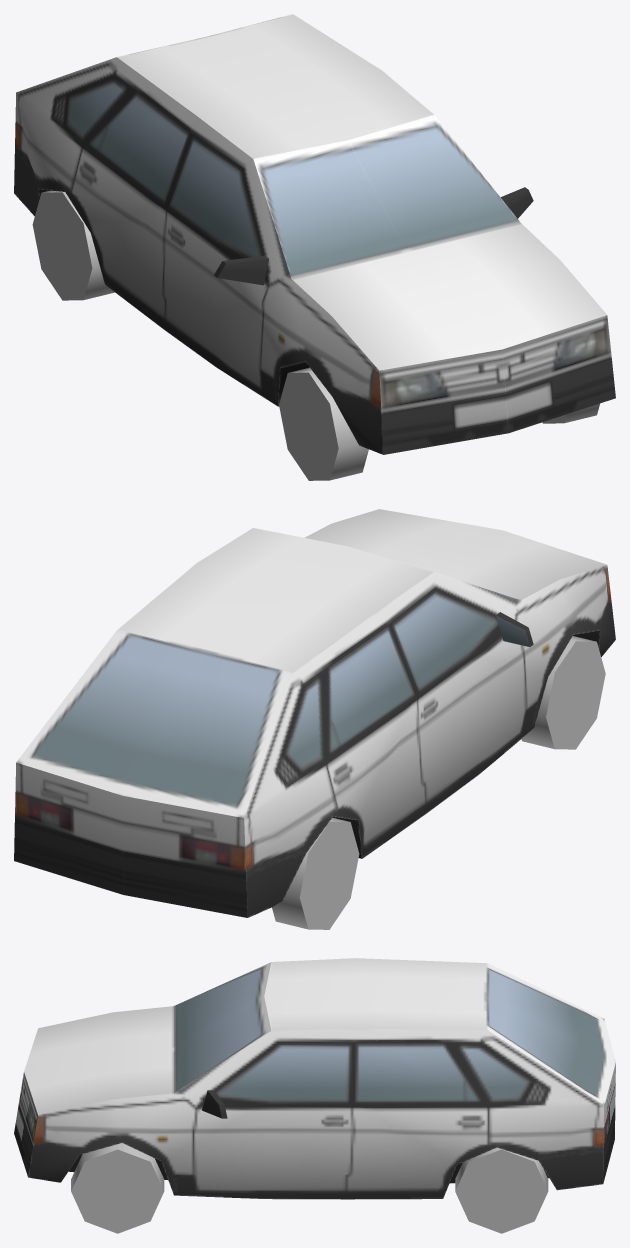
Rendered from Lada 9 V_0_1.fbx.
The picture shows the model from 3 angles, top to bottom: view 1: azimuth 30°, elevation 25°; view 2: azimuth 150°, elevation 25°; view 3: azimuth 270°, elevation 25°; orthographic projection. The views are drawn at different scales.
Visible parts, largest first — view 1: Lada9, Wheel_F_R, Wheel_B_R; view 2: Lada9, Wheel_B_R, Wheel_F_R; view 3: Lada9, Wheel_F_L, Wheel_B_L.
Boxes of the visible parts, box(x1,y1,x2,y2) form: Lada9: box(14, 14, 615, 454); Wheel_F_R: box(279, 367, 368, 480); Wheel_B_R: box(32, 190, 114, 300); Lada9: box(14, 509, 615, 917); Wheel_B_R: box(272, 817, 359, 929); Wheel_F_R: box(521, 636, 605, 749); Lada9: box(14, 958, 615, 1199); Wheel_F_L: box(71, 1143, 164, 1233); Wheel_B_L: box(455, 1147, 548, 1233).
Bounding box in the file's own units: 1.9 × 1.4 × 4.01.
